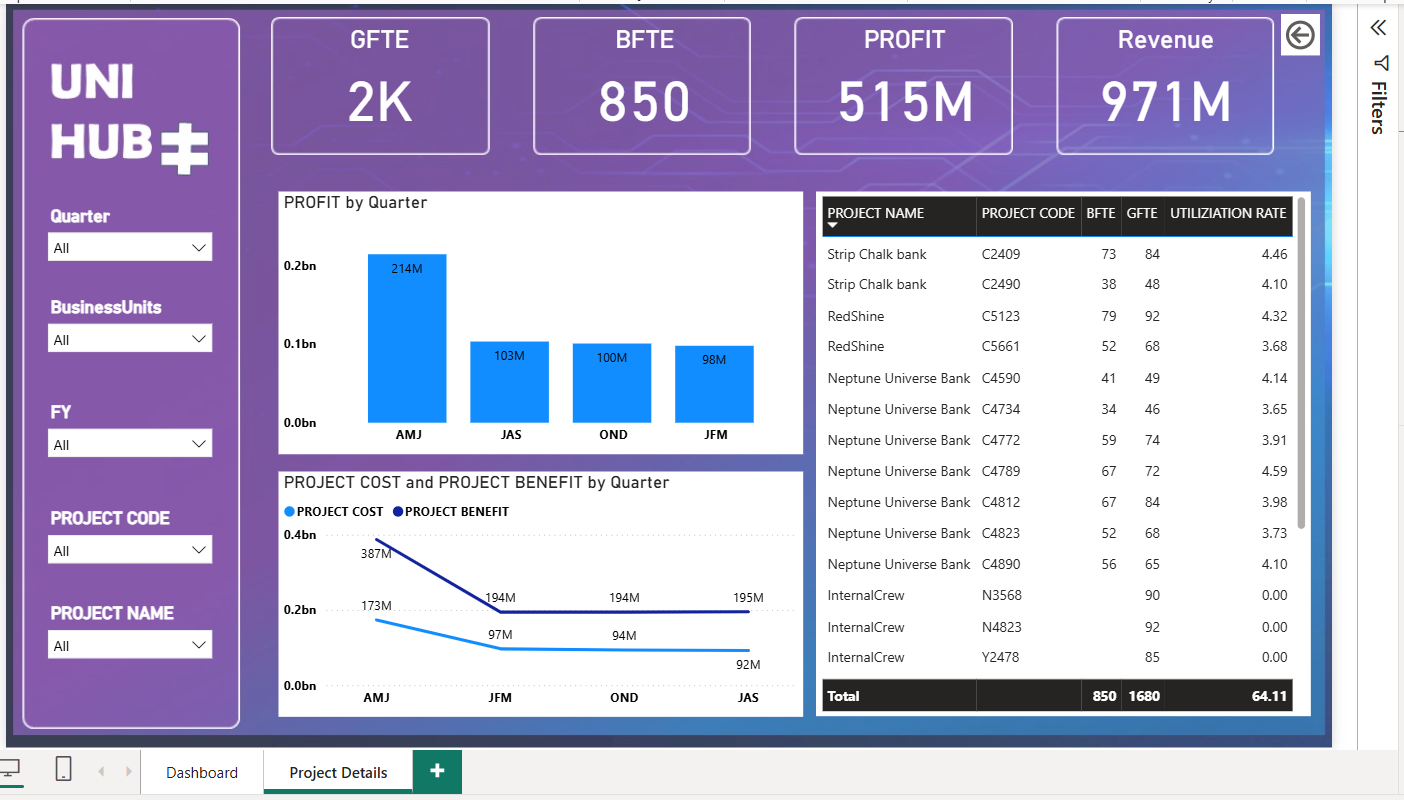

This screenshot's page, from the dashboard's own definition file:
{"tool":"powerbi","page":{"name":"Project Details","canvas":[1280,720],"ordinal":1},"visuals":[{"type":"cardVisual","title":"GFTE","fields":{"Data":["ProjectTracker.Total GFTE"]},"box":[263,20.5,195.4,111],"z":0},{"type":"cardVisual","title":"BFTE","fields":{"Data":["ProjectTracker.Total BFTE"]},"box":[518.8,20.5,195.4,111],"z":1000},{"type":"cardVisual","title":"PROFIT","fields":{"Data":["ProjectTracker.Total Profit"]},"box":[769.7,20.5,195.4,111],"z":2000},{"type":"cardVisual","title":"Revenue","fields":{"Data":["ProjectTracker.Total Revenue"]},"box":[1021.9,20.5,195.4,111],"z":3000},{"type":"slicer","fields":{"Values":["ProjectTracker.Quarter"]},"box":[30.2,189.4,178.6,72.4],"z":4000},{"type":"slicer","fields":{"Values":["ProjectTracker.BusinessUnits"]},"box":[30.2,277.5,178.6,72.4],"z":5000},{"type":"slicer","fields":{"Values":["ProjectTracker.FY"]},"box":[30.2,378.8,178.6,72.4],"z":6000},{"type":"slicer","fields":{"Values":["ProjectTracker.PROJECT CODE"]},"box":[30.2,481.4,178.6,72.4],"z":7000},{"type":"slicer","fields":{"Values":["ProjectTracker.PROJECT NAME"]},"box":[30.2,573.1,178.6,72.4],"z":8000},{"type":"columnChart","title":"PROFIT by Quarter","fields":{"Category":["ProjectTracker.Quarter"],"Y":["Sum(ProjectTracker.PROFIT)"]},"box":[263,181,412.6,207.5],"z":9000},{"type":"tableEx","fields":{"Values":["ProjectTracker.PROJECT NAME","ProjectTracker.PROJECT CODE","Sum(ProjectTracker.BFTE)","Sum(ProjectTracker.GFTE)","Sum(ProjectTracker.UTILIZIATION RATE)"]},"box":[727.5,181,512.7,489.8],"z":10000},{"type":"lineChart","fields":{"Category":["ProjectTracker.Quarter"],"Y":["Sum(ProjectTracker. PROJECT COST )","Sum(ProjectTracker. PROJECT BENEFIT )"]},"box":[263,415,412.6,255.8],"z":11000},{"type":"actionButton","box":[1230.6,9.7,37.4,39.8],"z":12000}]}

Visuals, with their boxes on the page's 1280x720 design canvas (x1, y1, x2, y2). These are canvas units, not pixel positions in the 1404x800 screenshot, which may show the page scaled, cropped or inside an application window:
"GFTE" cardVisual: 263 20 458 132
"BFTE" cardVisual: 519 20 714 132
"PROFIT" cardVisual: 770 20 965 132
"Revenue" cardVisual: 1022 20 1217 132
slicer - ProjectTracker.Quarter: 30 189 209 262
slicer - ProjectTracker.BusinessUnits: 30 278 209 350
slicer - ProjectTracker.FY: 30 379 209 451
slicer - ProjectTracker.PROJECT CODE: 30 481 209 554
slicer - ProjectTracker.PROJECT NAME: 30 573 209 646
"PROFIT by Quarter" columnChart: 263 181 676 388
tableEx - ProjectTracker.PROJECT NAME x ProjectTracker.PROJECT CODE: 728 181 1240 671
lineChart - ProjectTracker.Quarter x Sum(ProjectTracker. PROJECT COST ): 263 415 676 671
actionButton: 1231 10 1268 50
